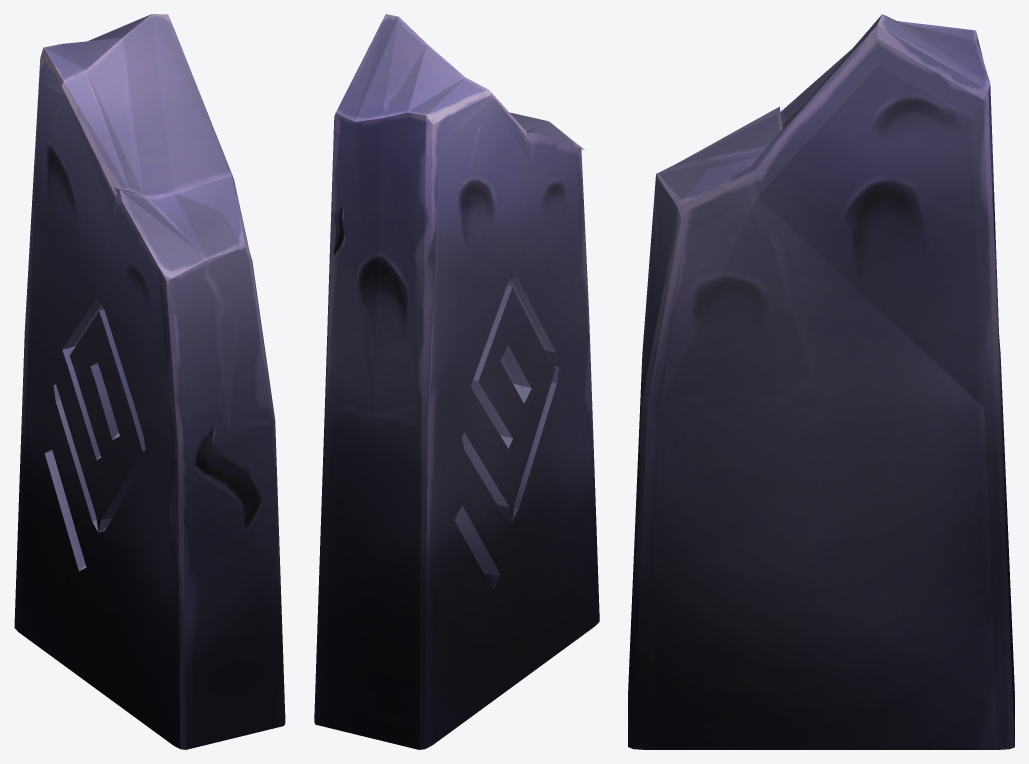
The model's file is Relic 1.fbx.
The picture shows the model from 3 angles, left to right: view 1: azimuth 30°, elevation 25°; view 2: azimuth 150°, elevation 25°; view 3: azimuth 270°, elevation 25°; orthographic projection. The views are drawn at different scales.
Parts seen in each view (by area): view 1: Cube.028; view 2: Cube.028; view 3: Cube.028.
Boxes of the visible parts, bbox=[...] form: Cube.028: bbox=[14, 14, 285, 749]; Cube.028: bbox=[314, 14, 599, 749]; Cube.028: bbox=[628, 14, 1014, 749].
Bounding box in the file's own units: 852 × 4499 × 2185.
Materials: 1 (1 with a texture image).
